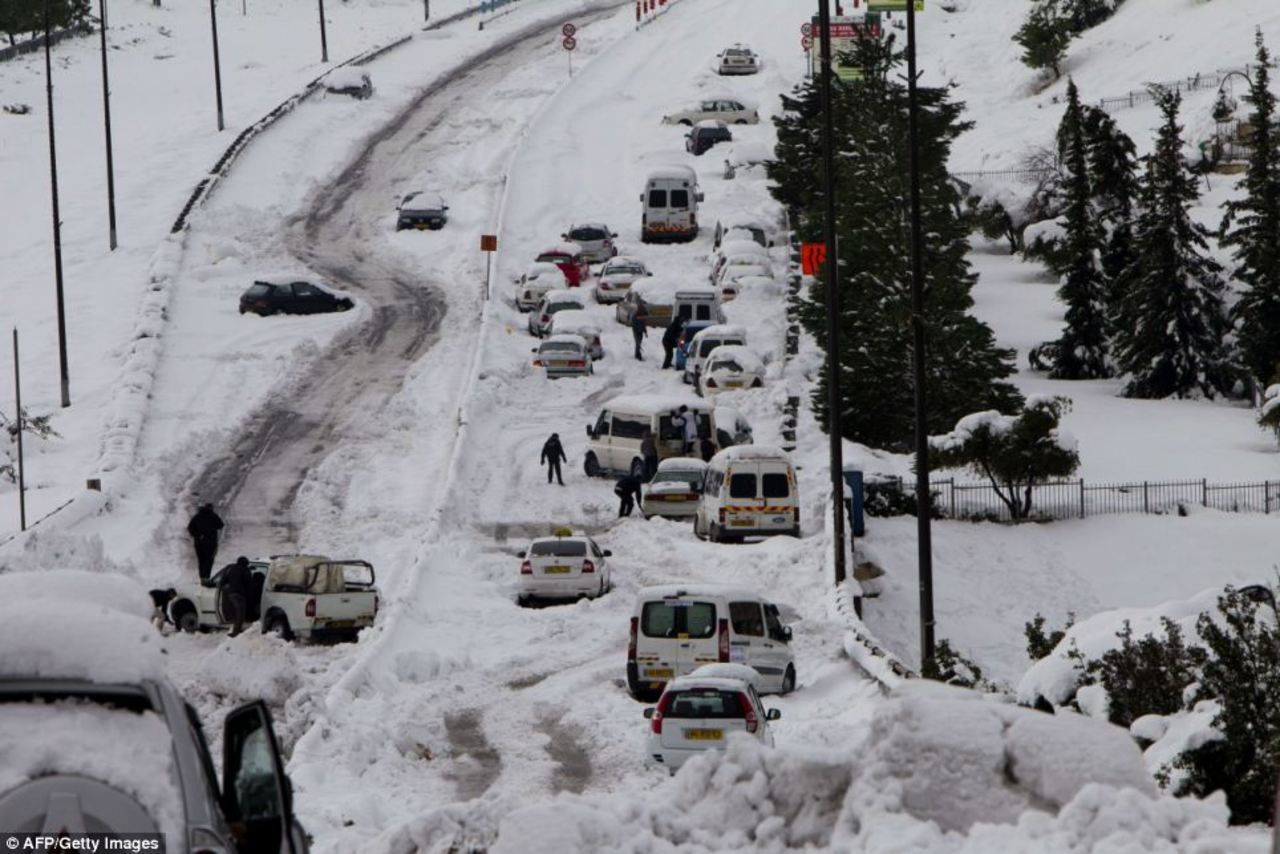car: (625, 586, 804, 702), (172, 560, 381, 650), (646, 665, 776, 769), (701, 446, 802, 544), (591, 399, 710, 472), (515, 536, 613, 607), (242, 270, 353, 324), (640, 162, 699, 242), (642, 457, 709, 518), (701, 352, 766, 403), (685, 325, 738, 380), (396, 183, 449, 237), (617, 279, 677, 324), (534, 336, 597, 377), (665, 97, 756, 123), (547, 311, 605, 349), (541, 245, 585, 291), (561, 225, 610, 265), (674, 290, 720, 331), (716, 265, 772, 298), (512, 270, 564, 305), (598, 260, 652, 292), (688, 122, 735, 158), (324, 69, 369, 104), (528, 295, 582, 324), (712, 48, 762, 74)
person: (182, 495, 221, 589), (219, 552, 252, 633), (670, 404, 701, 456), (146, 577, 177, 627), (615, 466, 641, 524), (541, 433, 568, 486), (632, 299, 650, 363), (663, 319, 683, 369)
